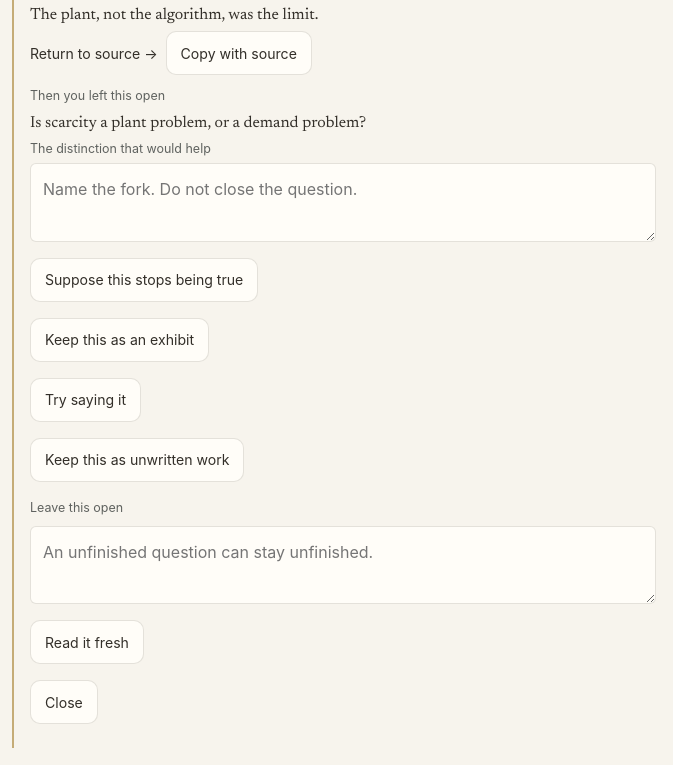
OpenSentence › hides Then’s question when reading fresh, not the recorded line or source
(page scrolled)
Click the button "Read it fresh".
click(87, 642)  # box [30, 620, 144, 664]
(page scrolled)
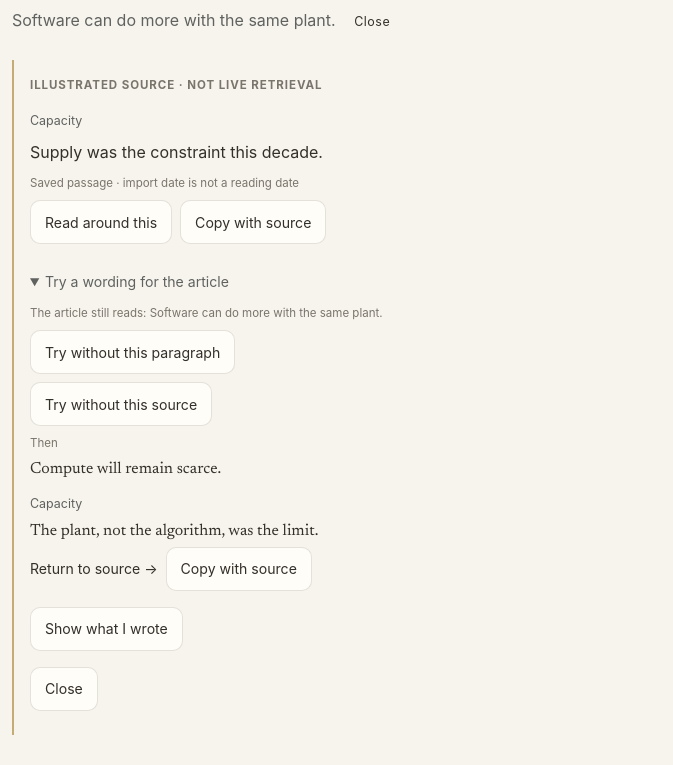
Expected: the element with class "open-sentence-pocket__then" shows "Compute will remain scarce.", [30, 462, 221, 478]
Now the text "Then you left this open" is gone
Now the label labelled "The distinction that would help" is gone
